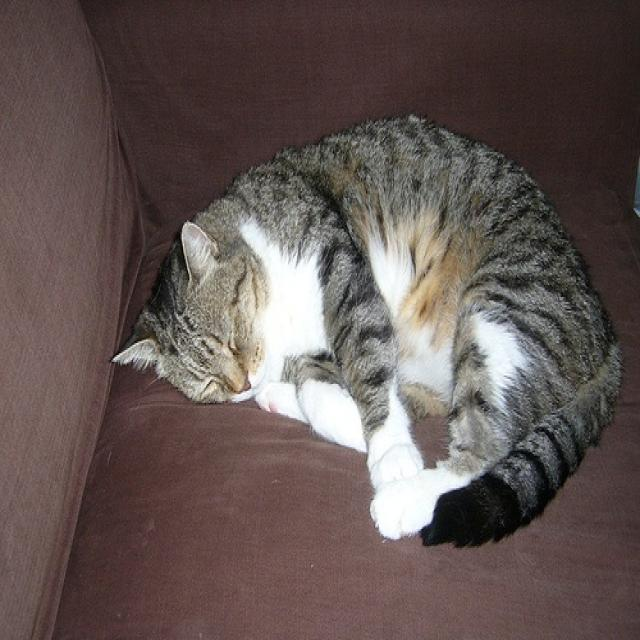cat: (108, 112, 624, 548)
